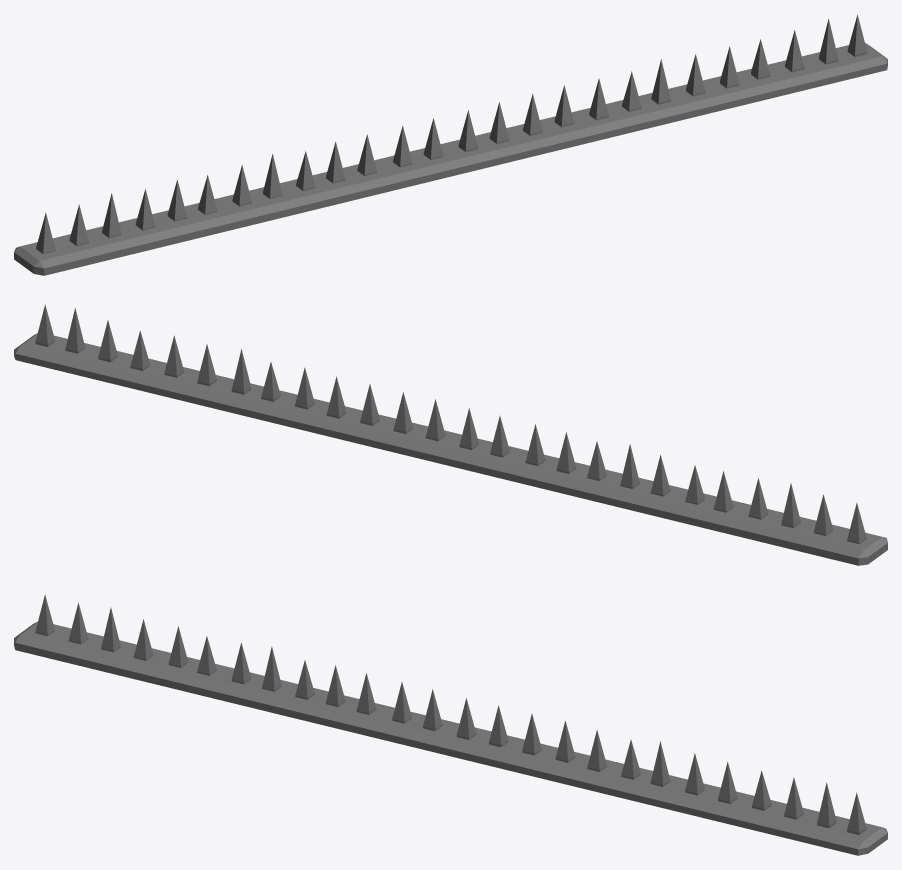
The model's file is LGEStoneSpikeTrap.fbx.
3 renders of one model, top to bottom at view 1: azimuth 30°, elevation 25°; view 2: azimuth 150°, elevation 25°; view 3: azimuth 330°, elevation 25°, orthographic.
Parts seen in each view (by area): view 1: LGEStoneSpikeTrap; view 2: LGEStoneSpikeTrap; view 3: LGEStoneSpikeTrap.
Part boxes in pixels (x1,y1,x2,y2): LGEStoneSpikeTrap: (14, 14, 887, 275); LGEStoneSpikeTrap: (14, 304, 887, 565); LGEStoneSpikeTrap: (14, 594, 887, 855).
Size of the model in its own units: 264 by 15.63 by 15.07.
